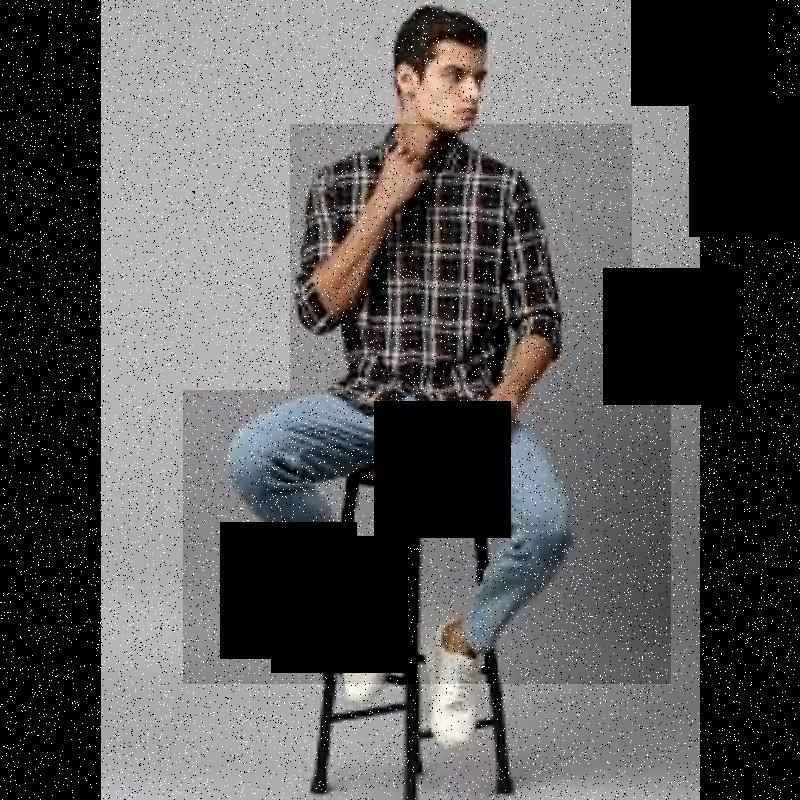Jeans: (183, 390, 671, 684)
Shirt: (290, 124, 632, 436)
